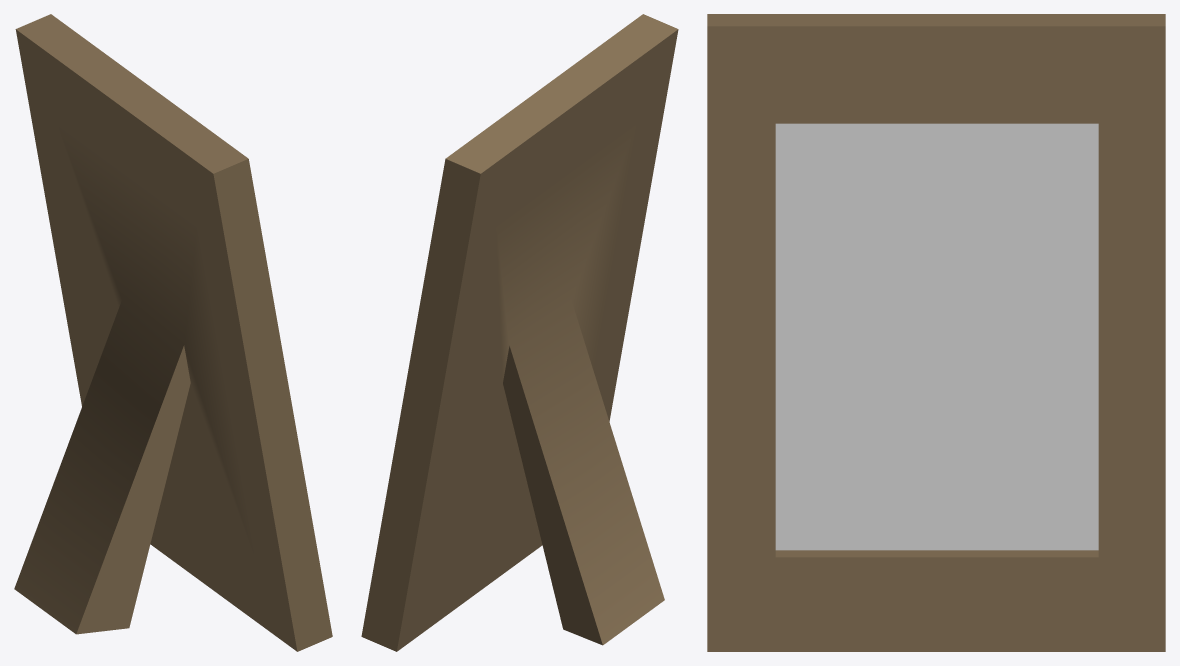
File: Photo1.fbx
The picture shows the model from 3 angles, left to right: view 1: azimuth 30°, elevation 25°; view 2: azimuth 150°, elevation 25°; view 3: azimuth 270°, elevation 25°; orthographic projection. The views are drawn at different scales.
Visible parts, largest first — view 1: photo1; view 2: photo1; view 3: photo1.
Part boxes in pixels (x1,y1,x2,y2): photo1: (14,14,332,651); photo1: (361,14,678,651); photo1: (707,14,1165,651).
Size of the model in its own units: 1.06 by 2.84 by 2.
